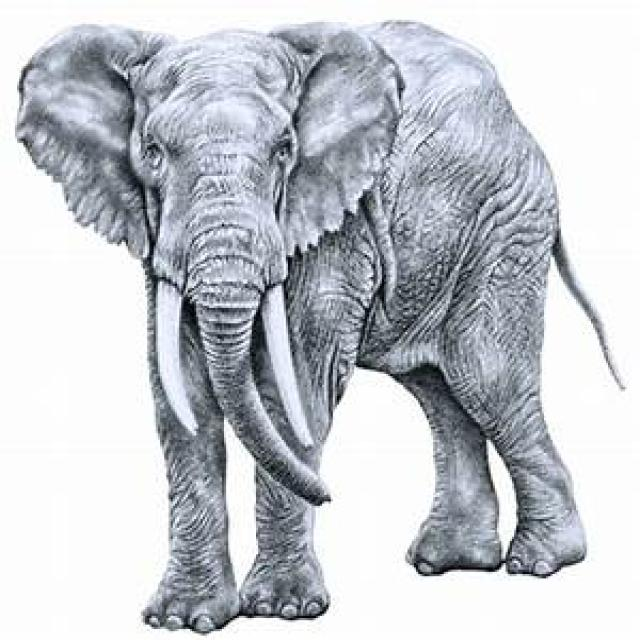elephant: (15, 18, 602, 636)
